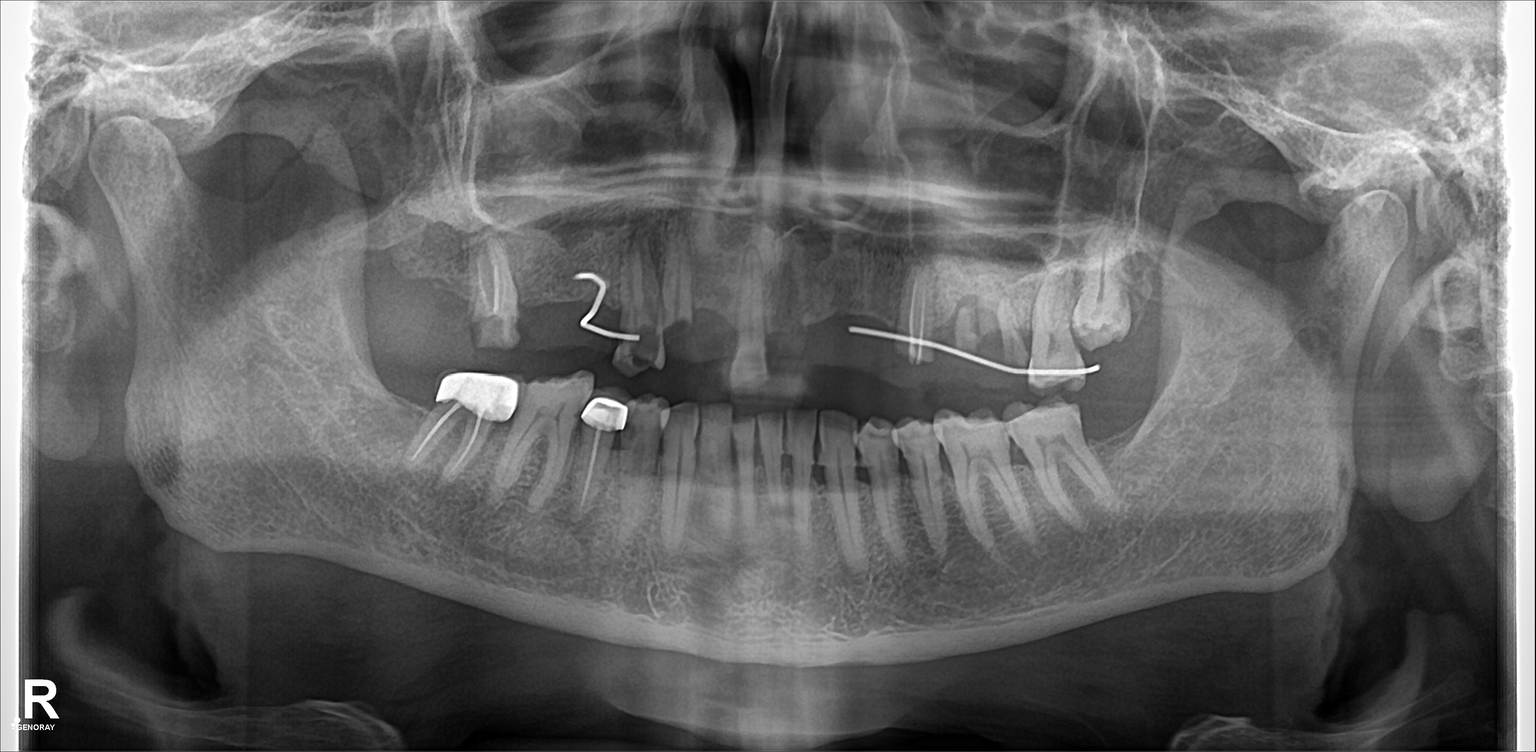Dental Caries: (623, 324, 656, 372)
Endodontically Treated Tooth: (436, 374, 510, 500), (462, 227, 523, 340), (585, 396, 626, 514), (885, 259, 931, 364)
Impacted Third Molar: (1073, 259, 1137, 343)
Missing Tooth: (1104, 382, 1164, 490), (823, 242, 875, 353), (371, 361, 431, 457), (693, 225, 736, 358), (767, 242, 815, 353), (531, 223, 574, 334), (581, 235, 621, 343), (372, 225, 416, 320), (419, 222, 460, 323)
Retained Root: (983, 274, 1029, 375), (933, 268, 976, 365), (657, 233, 685, 346)
